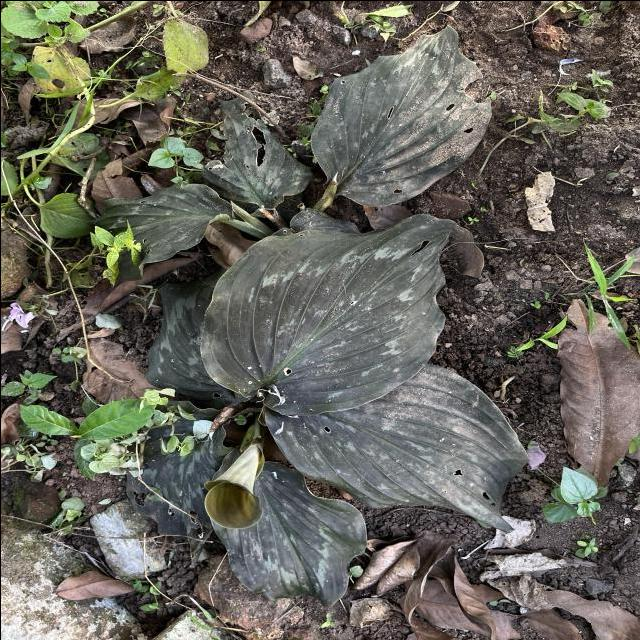Kaempferia galanga linn: (196, 210, 459, 417), (260, 360, 529, 534), (308, 21, 494, 208)
